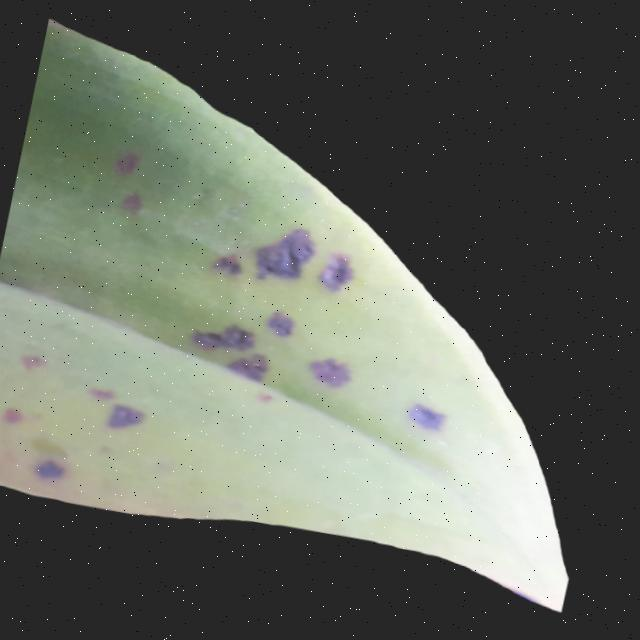mite: (0, 97, 392, 530), (57, 142, 497, 464), (182, 212, 382, 404), (31, 387, 154, 499), (185, 316, 282, 387), (100, 144, 160, 221), (191, 318, 262, 360), (316, 251, 361, 297), (226, 349, 276, 386), (106, 401, 151, 436), (264, 309, 301, 342), (210, 251, 249, 281), (191, 328, 227, 355)
